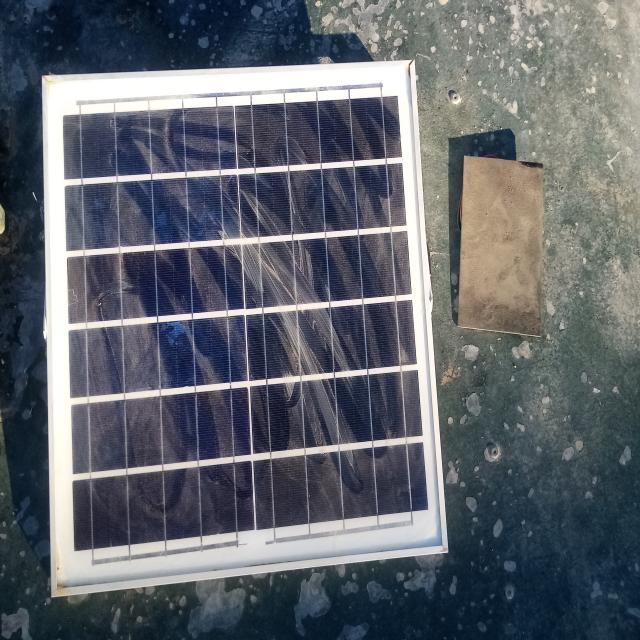faulty: (43, 62, 446, 595), (460, 156, 545, 343)
